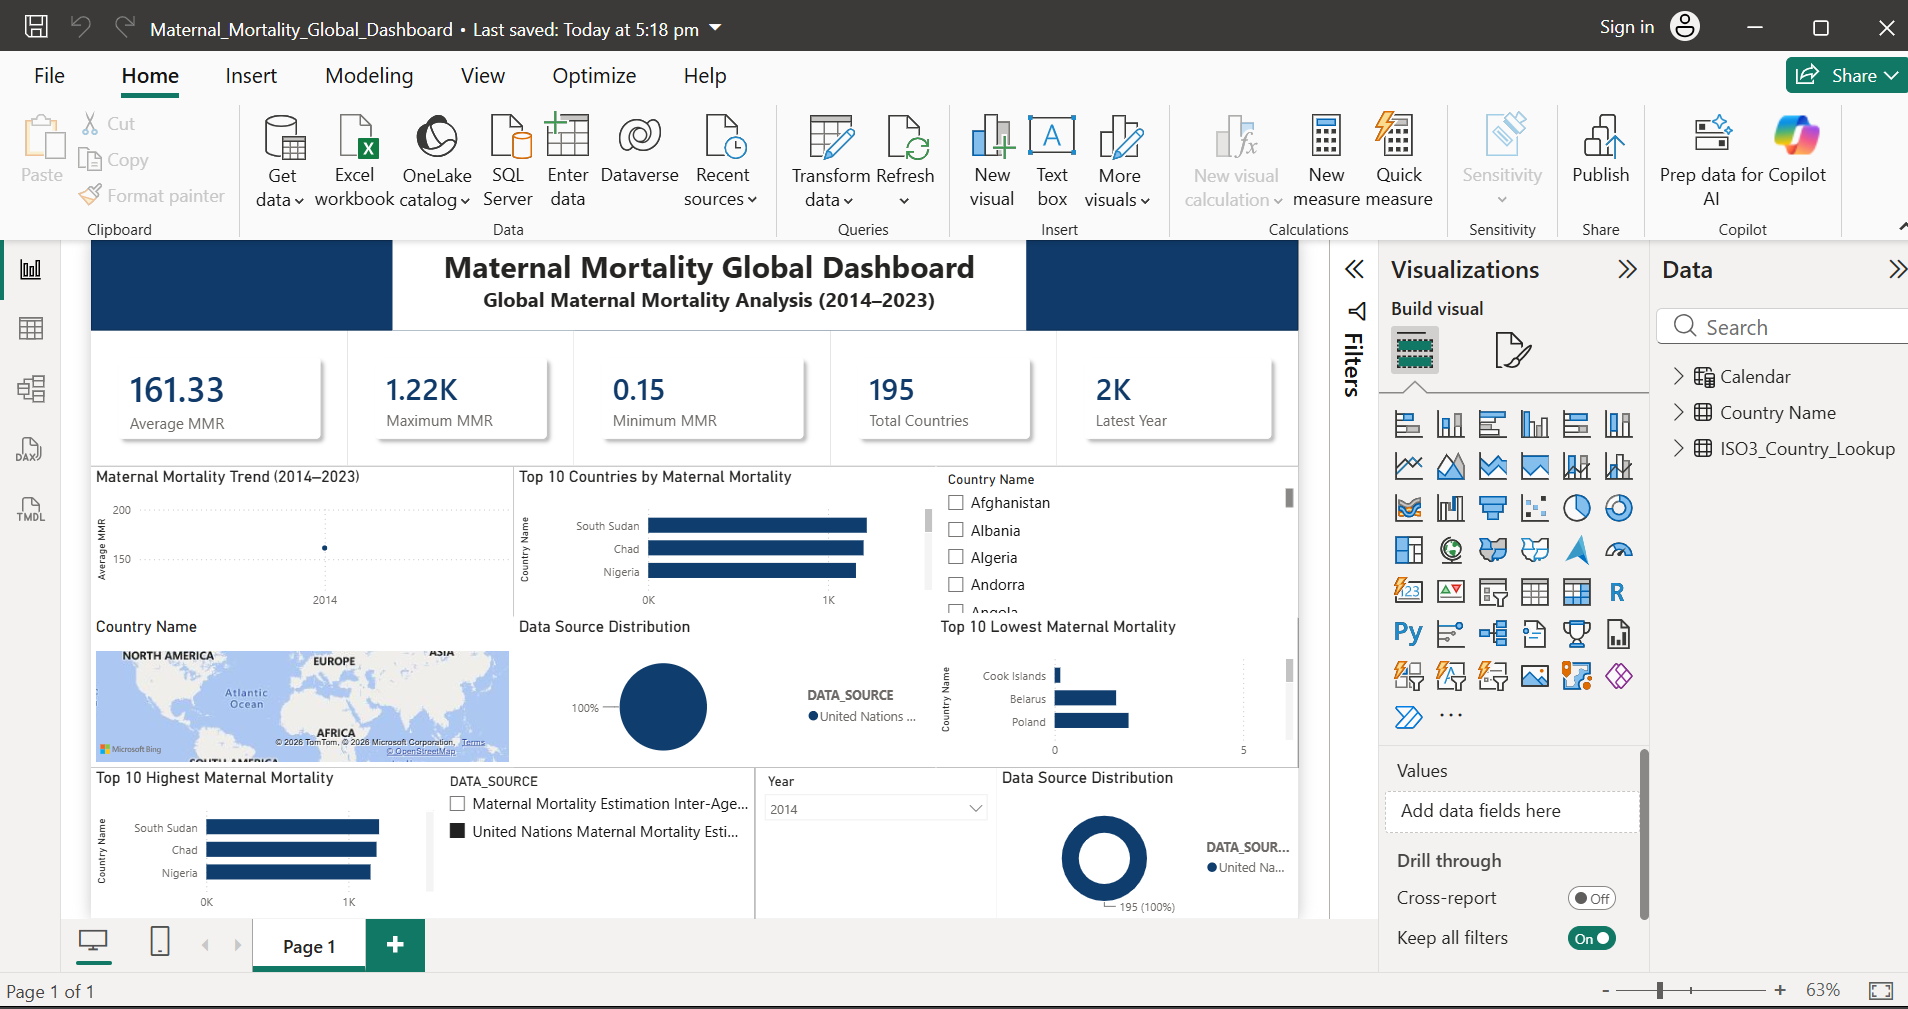

Layout of this report page (visuals, bound fields, positions):
{"tool":"powerbi","page":{"name":"Page 1","canvas":[1280,720],"ordinal":0},"visuals":[{"type":"cardVisual","fields":{"Data":["fusion_GLOBAL_DATAFLOW_UNICEF_1 0_ MNCH_MMR.Average MMR"]},"box":[0,96,272,144],"z":0},{"type":"cardVisual","fields":{"Data":["fusion_GLOBAL_DATAFLOW_UNICEF_1 0_ MNCH_MMR.Minimum MMR"]},"box":[512,96,272,144],"z":1000},{"type":"cardVisual","fields":{"Data":["fusion_GLOBAL_DATAFLOW_UNICEF_1 0_ MNCH_MMR.Latest Year"]},"box":[1024,96,256,144],"z":2000},{"type":"cardVisual","fields":{"Data":["fusion_GLOBAL_DATAFLOW_UNICEF_1 0_ MNCH_MMR.Maximum MMR"]},"box":[272,96,240,144],"z":3000},{"type":"cardVisual","fields":{"Data":["fusion_GLOBAL_DATAFLOW_UNICEF_1 0_ MNCH_MMR.Total Countries"]},"box":[784,96,240,144],"z":4000},{"type":"lineChart","title":"Maternal Mortality Trend (2014–2023)","fields":{"Category":["fusion_GLOBAL_DATAFLOW_UNICEF_1 0_ MNCH_MMR.Year"],"Y":["fusion_GLOBAL_DATAFLOW_UNICEF_1 0_ MNCH_MMR.Average MMR"]},"box":[0,240,448,160],"z":5000},{"type":"map","fields":{"Category":["fusion_GLOBAL_DATAFLOW_UNICEF_1 0_ MNCH_MMR.Country Name"]},"box":[0,400,448,160],"z":6000},{"type":"clusteredBarChart","title":"Top 10 Countries by Maternal Mortality","fields":{"Category":["fusion_GLOBAL_DATAFLOW_UNICEF_1 0_ MNCH_MMR.Country Name"],"Y":["fusion_GLOBAL_DATAFLOW_UNICEF_1 0_ MNCH_MMR.Average MMR"]},"box":[448,240,448,160],"z":7000},{"type":"slicer","fields":{"Values":["fusion_GLOBAL_DATAFLOW_UNICEF_1 0_ MNCH_MMR.Year"]},"box":[704,560,256,160],"z":8000},{"type":"slicer","fields":{"Values":["fusion_GLOBAL_DATAFLOW_UNICEF_1 0_ MNCH_MMR.DATA_SOURCE"]},"box":[368,560,336,160],"z":9000},{"type":"clusteredBarChart","title":"Top 10 Highest Maternal Mortality","fields":{"Category":["fusion_GLOBAL_DATAFLOW_UNICEF_1 0_ MNCH_MMR.Country Name"],"Y":["Sum(fusion_GLOBAL_DATAFLOW_UNICEF_1 0_ MNCH_MMR.MMR)"]},"box":[0,560,368,160],"z":10000},{"type":"clusteredBarChart","title":"Top 10 Lowest Maternal Mortality","fields":{"Category":["fusion_GLOBAL_DATAFLOW_UNICEF_1 0_ MNCH_MMR.Country Name"],"Y":["Sum(fusion_GLOBAL_DATAFLOW_UNICEF_1 0_ MNCH_MMR.MMR)"]},"box":[896,400,384,160],"z":11000},{"type":"donutChart","title":"Data Source Distribution","fields":{"Category":["fusion_GLOBAL_DATAFLOW_UNICEF_1 0_ MNCH_MMR.DATA_SOURCE"],"Y":["CountNonNull(fusion_GLOBAL_DATAFLOW_UNICEF_1 0_ MNCH_MMR.DATA_SOURCE)"]},"box":[960,560,320,160],"z":12000},{"type":"pieChart","title":"Data Source Distribution","fields":{"Category":["Country Name.DATA_SOURCE"],"Y":["CountNonNull(Country Name.DATA_SOURCE)"]},"box":[448,400,448,160],"z":13000},{"type":"slicer","fields":{"Values":["Country Name.Country Name"]},"box":[896,240,384,160],"z":14000},{"type":"shape","box":[0,0,1280,96],"z":15000},{"type":"textbox","box":[320,0,672,96],"z":16000}]}

Visuals, with their boxes on the page's 1280x720 design canvas (x1, y1, x2, y2). These are canvas units, not pixel positions in the 1908x1009 screenshot, which may show the page scaled, cropped or inside an application window:
cardVisual - fusion_GLOBAL_DATAFLOW_UNICEF_1 0_ MNCH_MMR.Average MMR: [0,96,272,240]
cardVisual - fusion_GLOBAL_DATAFLOW_UNICEF_1 0_ MNCH_MMR.Minimum MMR: [512,96,784,240]
cardVisual - fusion_GLOBAL_DATAFLOW_UNICEF_1 0_ MNCH_MMR.Latest Year: [1024,96,1280,240]
cardVisual - fusion_GLOBAL_DATAFLOW_UNICEF_1 0_ MNCH_MMR.Maximum MMR: [272,96,512,240]
cardVisual - fusion_GLOBAL_DATAFLOW_UNICEF_1 0_ MNCH_MMR.Total Countries: [784,96,1024,240]
"Maternal Mortality Trend (2014–2023)" lineChart: [0,240,448,400]
map - fusion_GLOBAL_DATAFLOW_UNICEF_1 0_ MNCH_MMR.Country Name: [0,400,448,560]
"Top 10 Countries by Maternal Mortality" clusteredBarChart: [448,240,896,400]
slicer - fusion_GLOBAL_DATAFLOW_UNICEF_1 0_ MNCH_MMR.Year: [704,560,960,720]
slicer - fusion_GLOBAL_DATAFLOW_UNICEF_1 0_ MNCH_MMR.DATA_SOURCE: [368,560,704,720]
"Top 10 Highest Maternal Mortality" clusteredBarChart: [0,560,368,720]
"Top 10 Lowest Maternal Mortality" clusteredBarChart: [896,400,1280,560]
"Data Source Distribution" donutChart: [960,560,1280,720]
"Data Source Distribution" pieChart: [448,400,896,560]
slicer - Country Name.Country Name: [896,240,1280,400]
shape: [0,0,1280,96]
textbox: [320,0,992,96]
